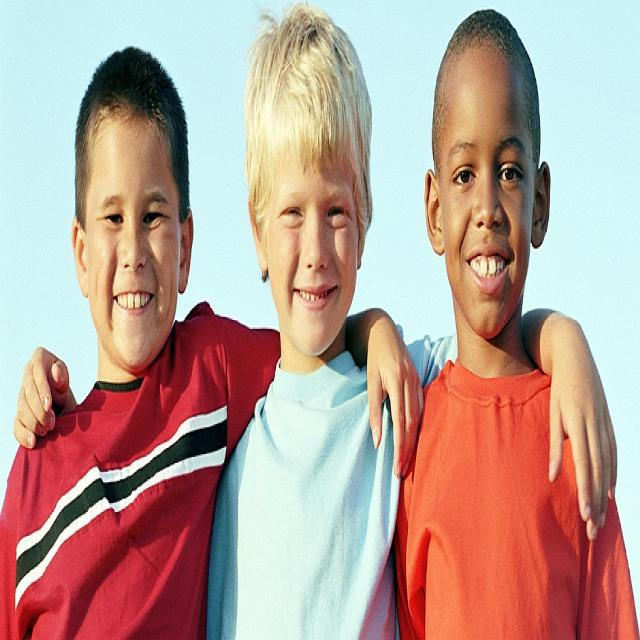child: (403, 4, 634, 640), (3, 43, 232, 640), (226, 7, 408, 640)
